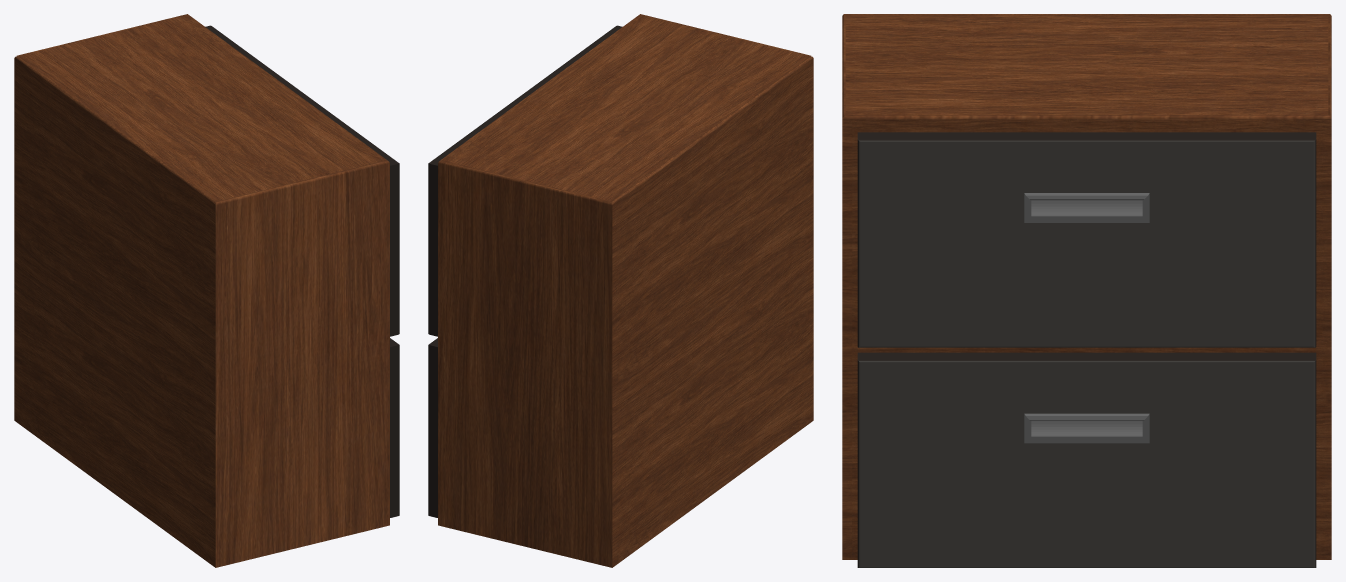
File: DrawerCabinet.fbx
The picture shows the model from 3 angles, left to right: view 1: azimuth 30°, elevation 25°; view 2: azimuth 150°, elevation 25°; view 3: azimuth 270°, elevation 25°; orthographic projection. The views are drawn at different scales.
Parts seen in each view (by area): view 1: DrawerBody, Drawer2, Drawer; view 2: DrawerBody, Drawer2, Drawer; view 3: Drawer, Drawer2, DrawerBody.
Boxes of the visible parts, x1,y1,x2,y2 form: DrawerBody: (14, 14, 389, 567); Drawer2: (205, 25, 399, 336); Drawer: (390, 338, 399, 517); DrawerBody: (438, 14, 813, 567); Drawer2: (428, 25, 622, 336); Drawer: (428, 338, 437, 517); Drawer: (857, 352, 1316, 567); Drawer2: (857, 132, 1316, 347); DrawerBody: (842, 14, 1331, 559).
Size of the model in its own units: 237 by 427 by 427.
5 materials, 2 textured.
